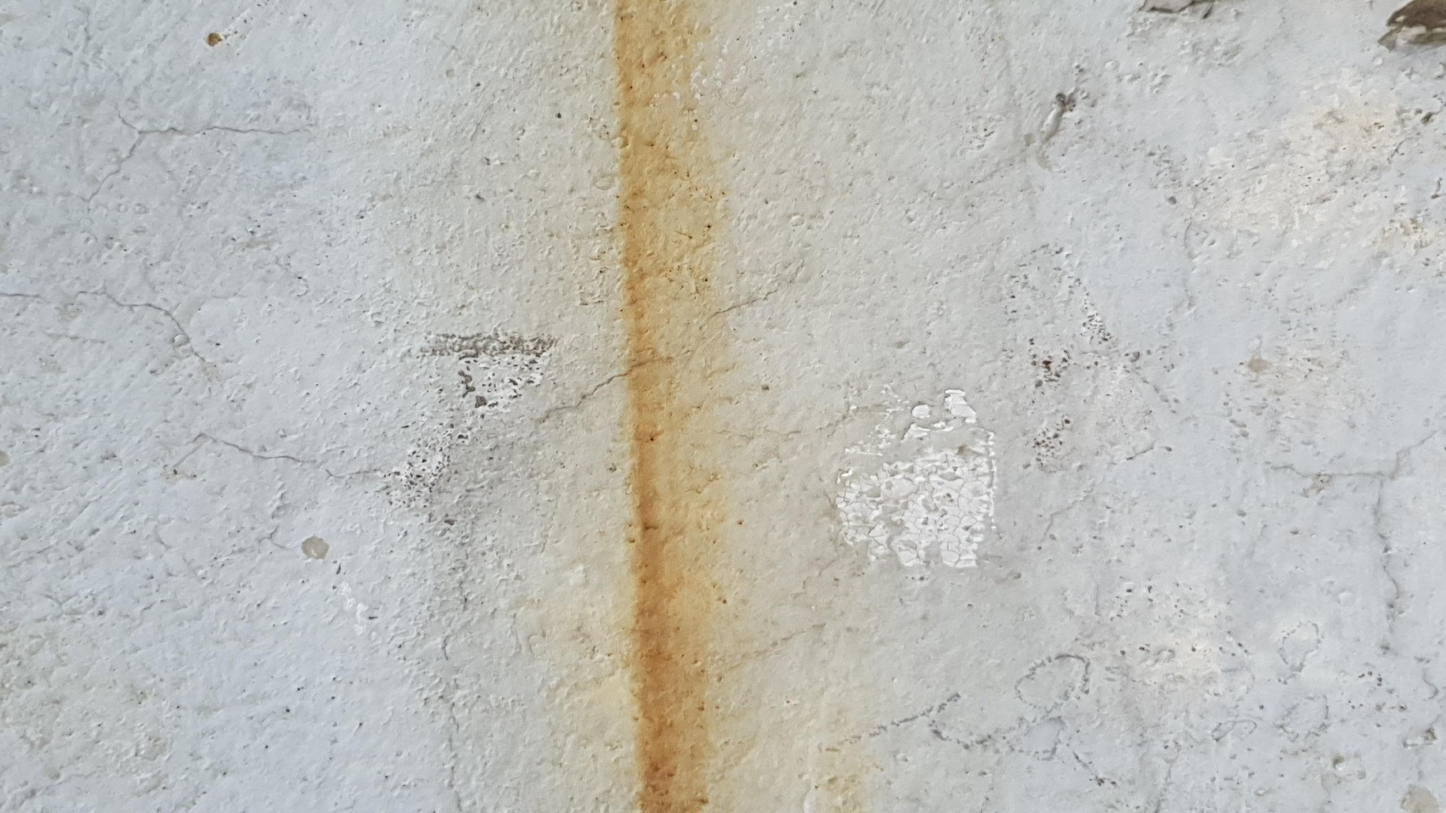crack: (82, 110, 283, 201), (546, 350, 665, 419)
